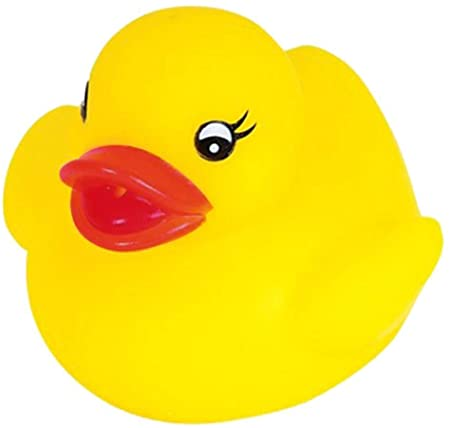Duck: (2, 2, 450, 427)
